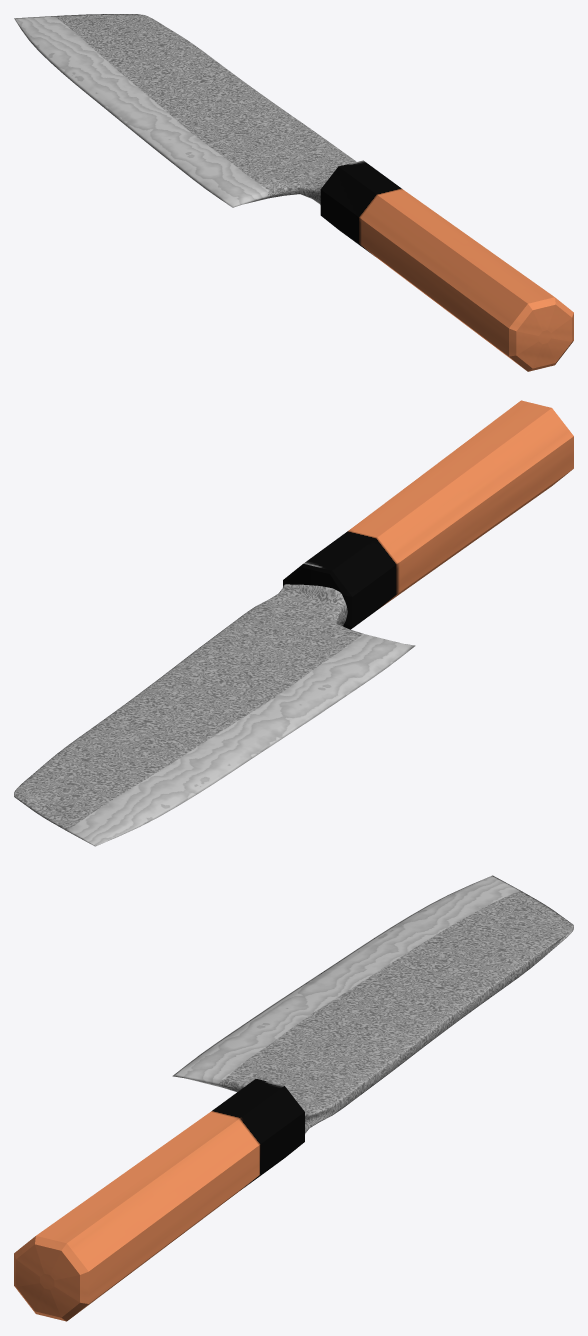
Rendered from Knife.fbx.
3 views of the same model, one above another, from view 1: azimuth 30°, elevation 25°; view 2: azimuth 150°, elevation 25°; view 3: azimuth 330°, elevation 25° (orthographic). The views are drawn at different scales.
Visible parts, largest first — view 1: Knife; view 2: Knife; view 3: Knife.
Boxes of the visible parts, x1,y1,x2,y2 form: Knife: (14,14,573,371); Knife: (14,400,573,846); Knife: (14,875,573,1321).
Size of the model in its own units: 0.0422 by 0.0199 by 0.2438.
